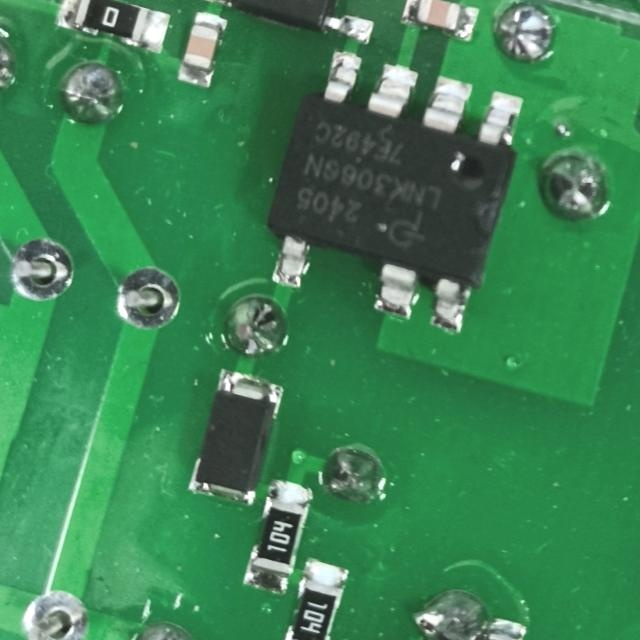chip-capacitor: (173, 5, 233, 90), (395, 0, 482, 43)
chip-resistor: (239, 471, 317, 597), (52, 0, 176, 58), (275, 553, 351, 640)
diode: (184, 363, 289, 509)
ic: (243, 31, 533, 337)
